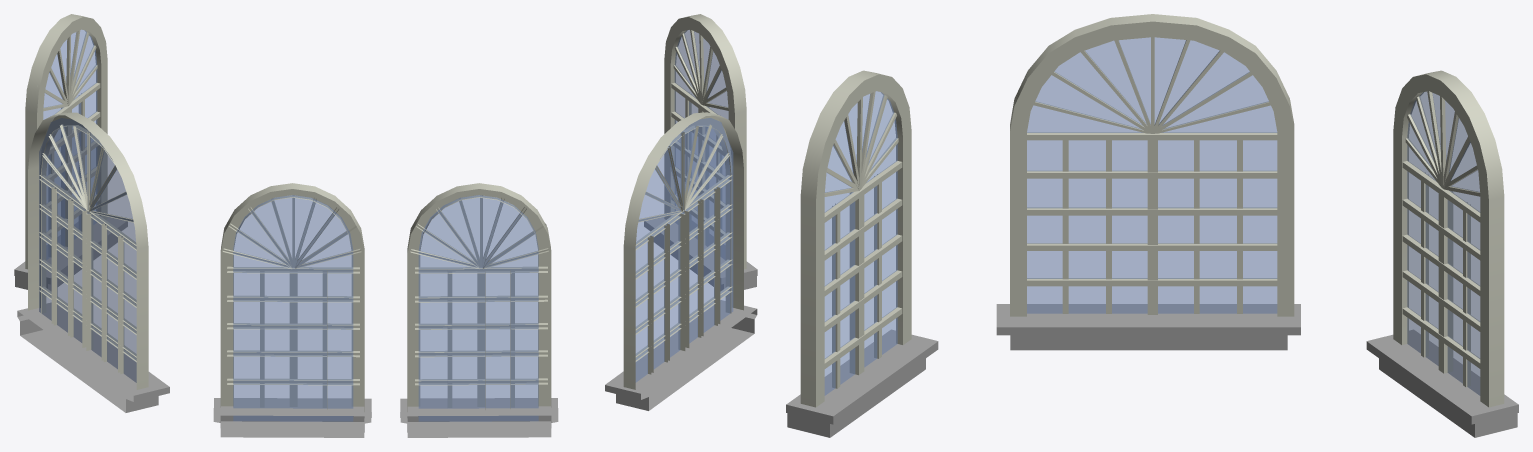
The model's file is ACT2_Windows_fin.fbx.
3 views of the same model, side by side, from view 1: azimuth 30°, elevation 25°; view 2: azimuth 150°, elevation 25°; view 3: azimuth 270°, elevation 25° (orthographic). The views are drawn at different scales.
Visible parts, largest first — view 1: Glass_L, Glass_M, Bars_M, Bars_L, Boog_M, Boog_L, Balkon_M, Balks_L, Boog_R, Bars_R, Glass_R, Balks_R; view 2: Glass_R, Glass_M, Bars_M, Bars_R, Boog_M, Boog_R, Balkon_M, Balks_R, Boog_L, Bars_L, Glass_L, Balks_L; view 3: Glass_M, Bars_M, Boog_M, Balkon_M, Boog_L, Boog_R, Bars_L, Bars_R, Glass_L, Glass_R, Balks_R, Balks_L.
Part boxes in pixels (x1,y1,x2,y2): Glass_L: (233,195,353,421); Glass_M: (39,118,136,382); Bars_M: (39,124,136,374); Bars_L: (222,194,361,409); Boog_M: (28,112,148,389); Boog_L: (220,183,364,411); Balkon_M: (17,303,169,412); Balks_L: (213,398,371,437); Boog_R: (25,14,107,269); Bars_R: (35,30,100,256); Glass_R: (43,29,97,259); Balks_R: (14,217,127,290); Glass_R: (418,195,538,421); Glass_M: (635,118,733,382); Bars_M: (635,124,732,374); Bars_R: (410,194,548,409); Boog_M: (623,112,743,389); Boog_R: (407,183,551,411); Balkon_M: (605,300,757,410); Balks_R: (400,398,558,437); Boog_L: (664,14,746,269); Bars_L: (671,29,728,255); Glass_L: (674,30,728,259); Balks_L: (644,217,757,290); Glass_M: (1027,37,1277,313); Bars_M: (1027,37,1277,314); Boog_M: (1010,14,1294,316); Balkon_M: (996,304,1300,350); Boog_L: (800,70,911,407); Boog_R: (1393,70,1504,407); Bars_L: (824,91,902,388); Bars_R: (1402,91,1480,387); Glass_L: (824,91,897,395); Glass_R: (1407,91,1480,395); Balks_R: (1366,329,1518,437); Balks_L: (786,329,938,437).
Size of the model in its own units: 226 by 298 by 613.
